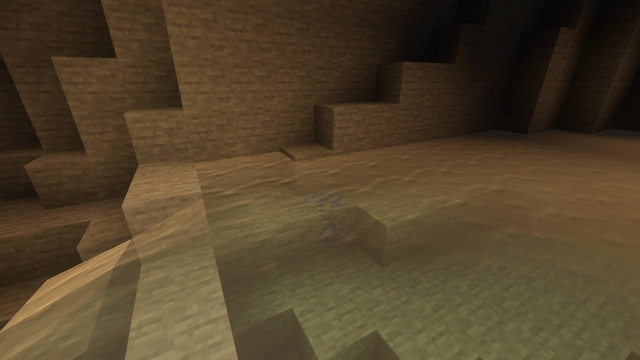lapis: (302, 190, 360, 251)
